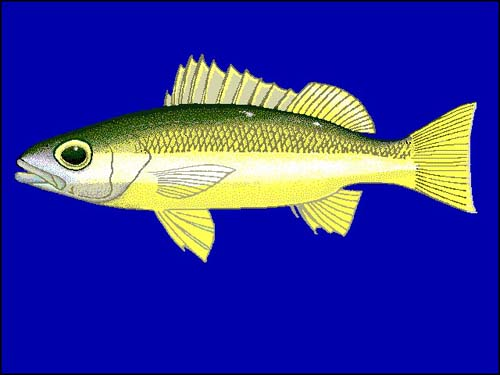fish: (13, 52, 479, 264)
